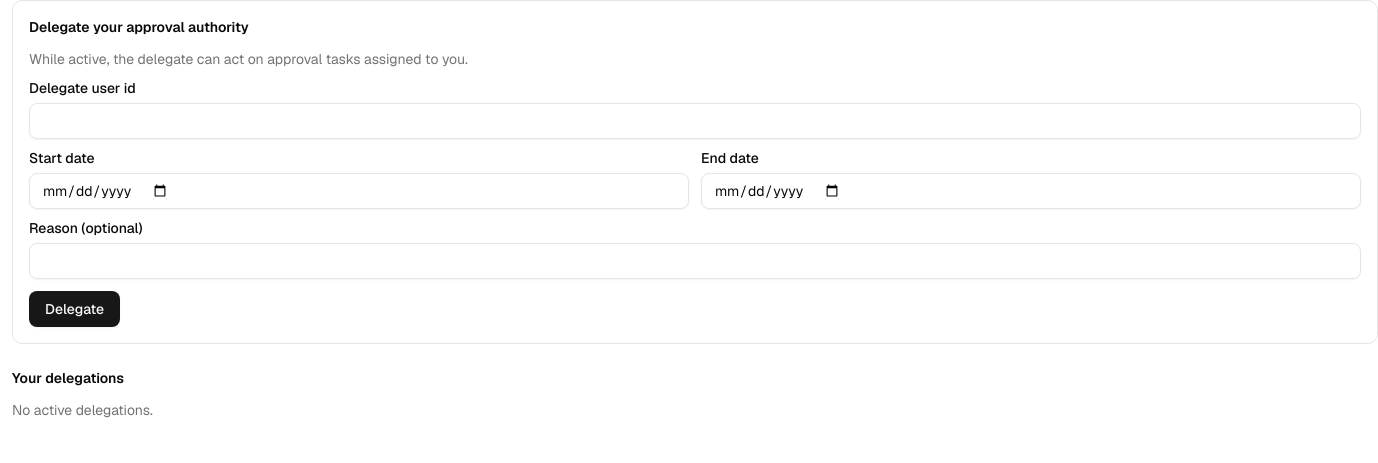
Test: DelegationPanel › rejects an end date before the start date
Step 1. Type "123e4567-e89b-12d3-a456-426614174000" into the field labelled "Delegate user id" → (695, 121), box x1=29 y1=103 x2=1361 y2=139
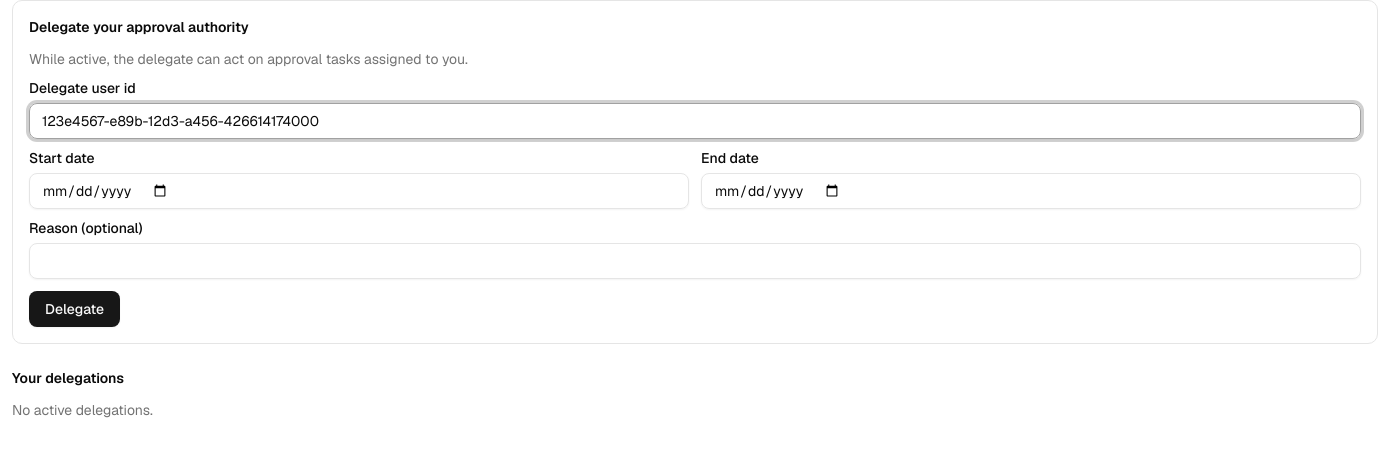
Step 2. Type "2026-02-10" into the date field labelled "Start date" → (359, 191), box x1=29 y1=173 x2=689 y2=209
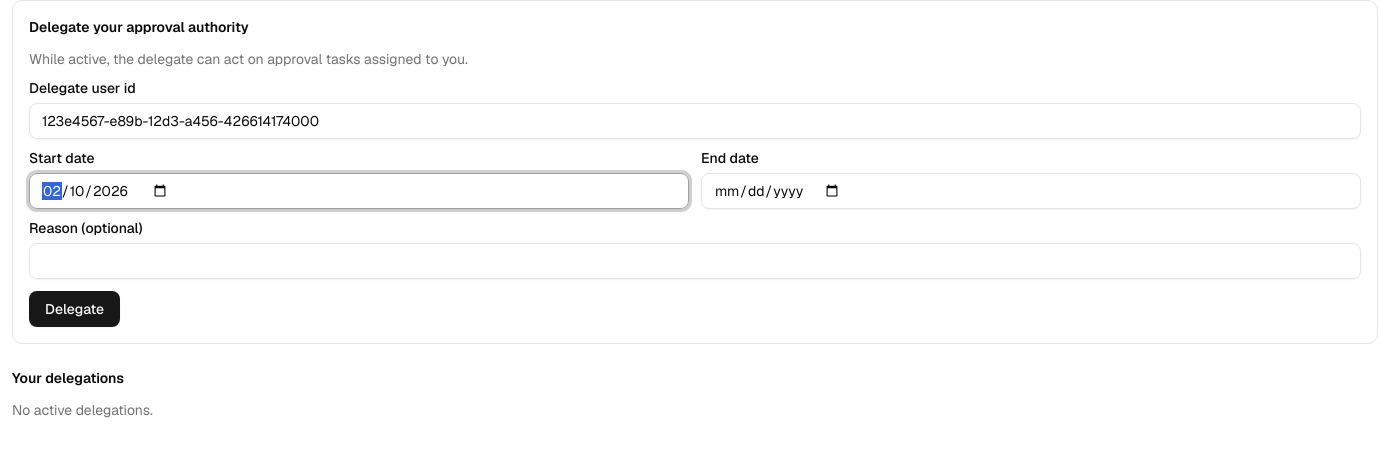
Step 3. Type "2026-02-01" into the date field labelled "End date" → (1031, 191), box x1=701 y1=173 x2=1361 y2=209
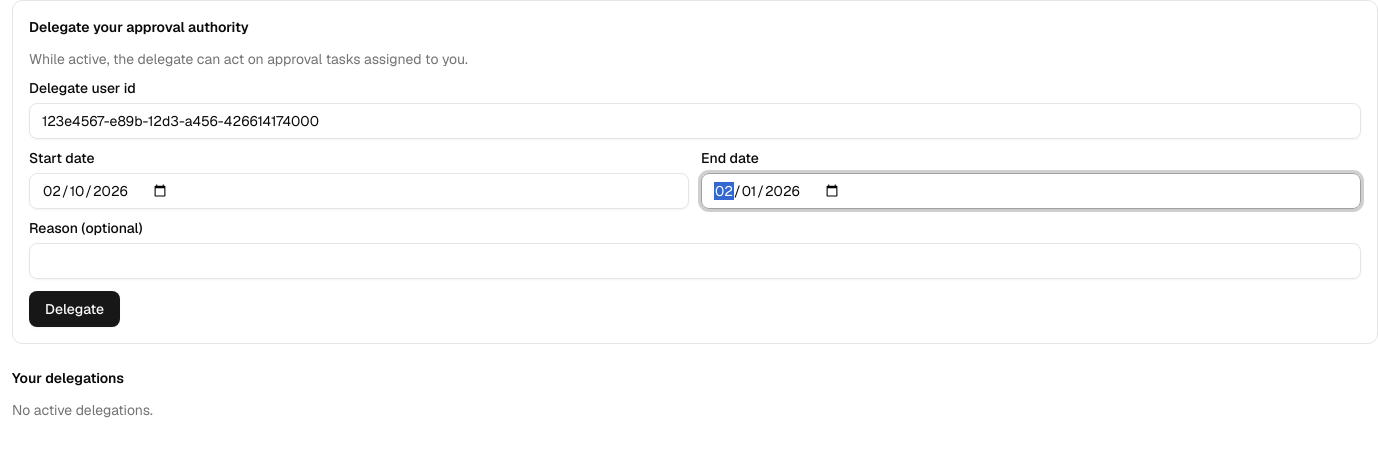
Step 4. Click the button "Delegate" → (75, 309), box x1=29 y1=291 x2=120 y2=327
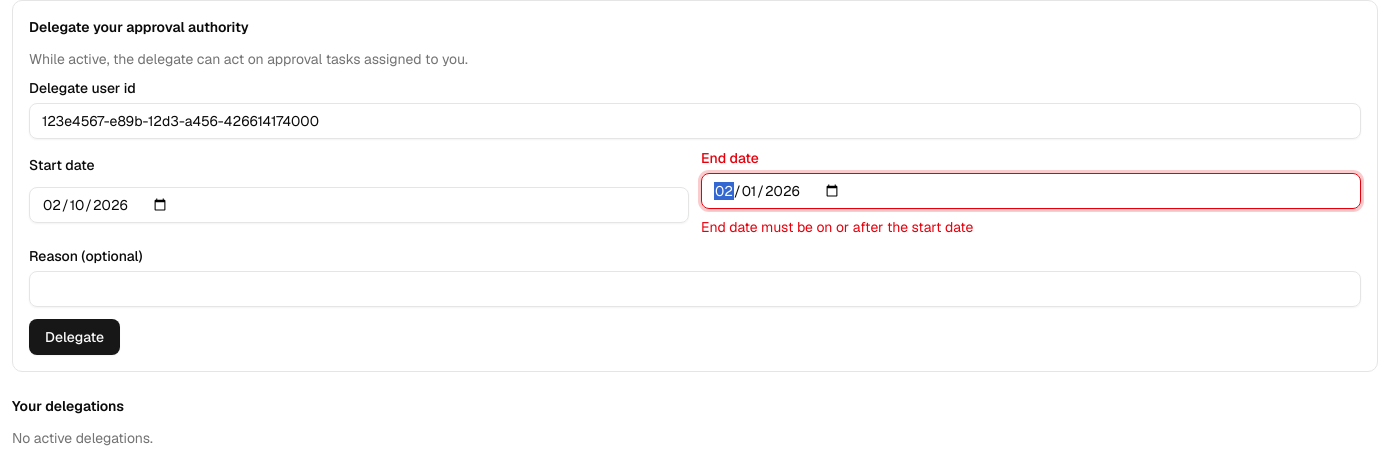
Expected: the text "End date must be on or after the start date" is shown, x1=701 y1=218 x2=973 y2=236
